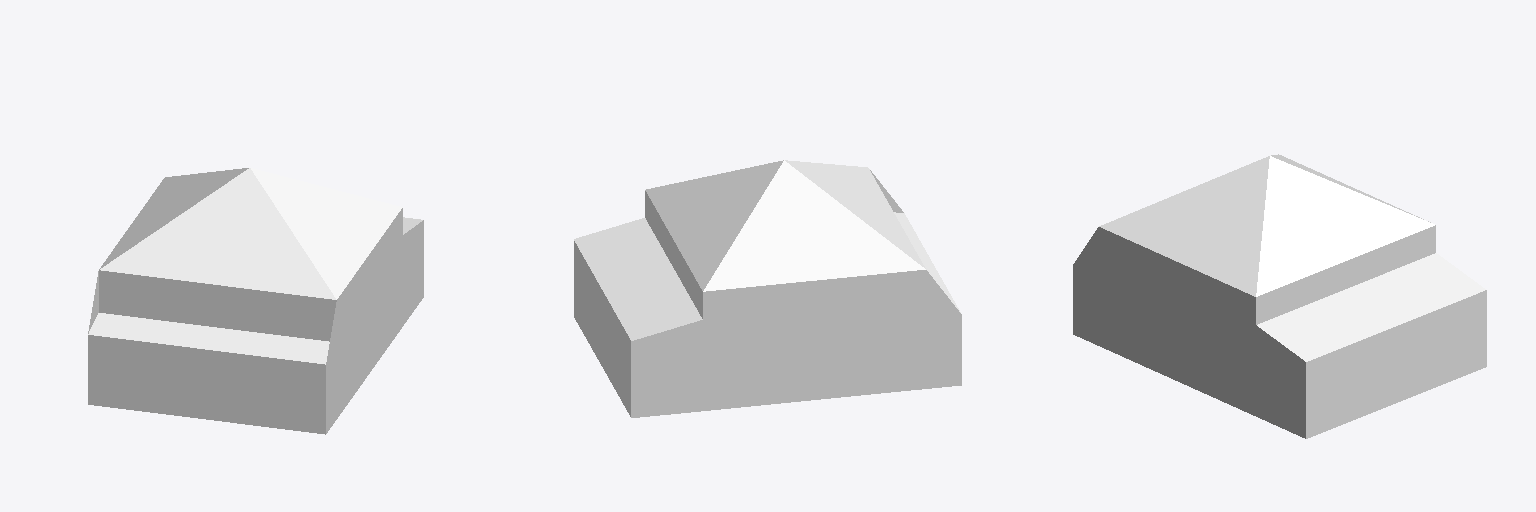
The model's file is house_Shape 356.obj.
3 renders of one model, left to right at view 1: azimuth 30°, elevation 25°; view 2: azimuth 150°, elevation 25°; view 3: azimuth 270°, elevation 25°, orthographic.
Parts seen in each view (by area): view 1: CityEngineMaterial_21, CityEngineMaterial_243, CityEngineMaterial_68; view 2: CityEngineMaterial_243, CityEngineMaterial_21; view 3: CityEngineMaterial_243, CityEngineMaterial_21.
Part boxes in pixels (x1,y1,x2,y2): CityEngineMaterial_21: (88, 168, 422, 364); CityEngineMaterial_243: (88, 208, 423, 434); CityEngineMaterial_68: (99, 270, 336, 341); CityEngineMaterial_243: (574, 170, 961, 417); CityEngineMaterial_21: (574, 160, 960, 340); CityEngineMaterial_243: (1073, 225, 1486, 438); CityEngineMaterial_21: (1099, 154, 1485, 361).
Bounding box in the file's own units: 17.44 × 8.72 × 17.22.